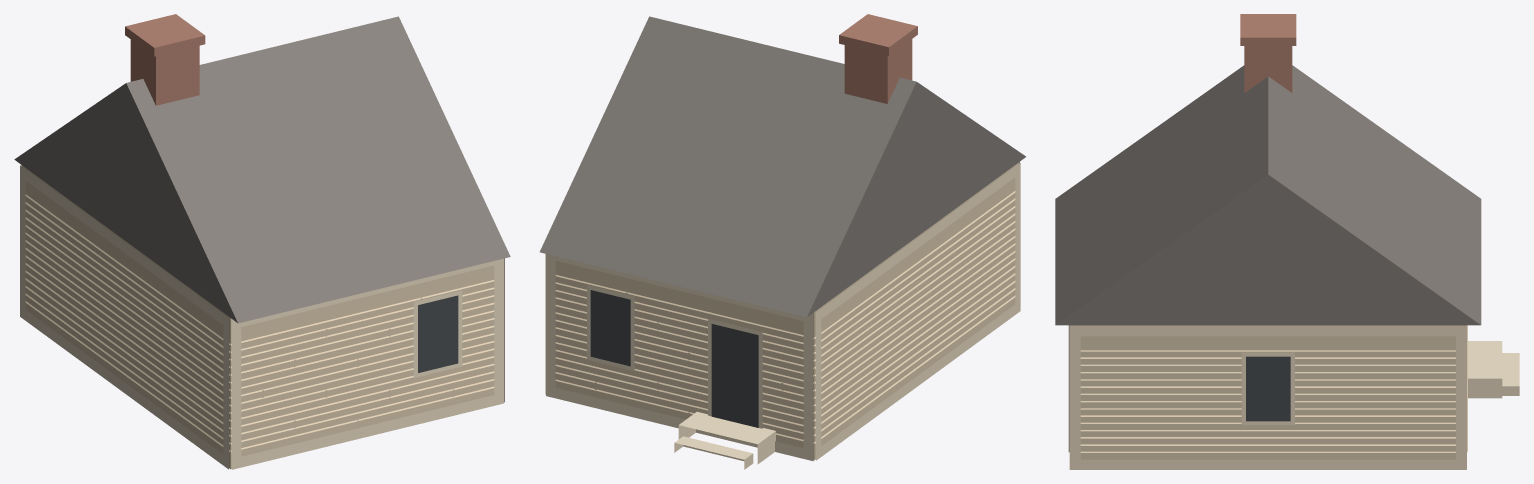
File: recon_1835_south_d3_022__inferred_1835.glb
The picture shows the model from 3 angles, left to right: view 1: azimuth 30°, elevation 25°; view 2: azimuth 150°, elevation 25°; view 3: azimuth 270°, elevation 25°; orthographic projection. The views are drawn at different scales.
Parts seen in each view (by area): view 1: recon_1835_south_d3_022__inferred_1835; view 2: recon_1835_south_d3_022__inferred_1835; view 3: recon_1835_south_d3_022__inferred_1835.
Boxes of the visible parts, x1,y1,x2,y2 form: recon_1835_south_d3_022__inferred_1835: [14, 14, 510, 469]; recon_1835_south_d3_022__inferred_1835: [540, 14, 1025, 469]; recon_1835_south_d3_022__inferred_1835: [1055, 14, 1519, 469].
Size of the model in its own units: 5.32 by 6.47 by 8.13.
